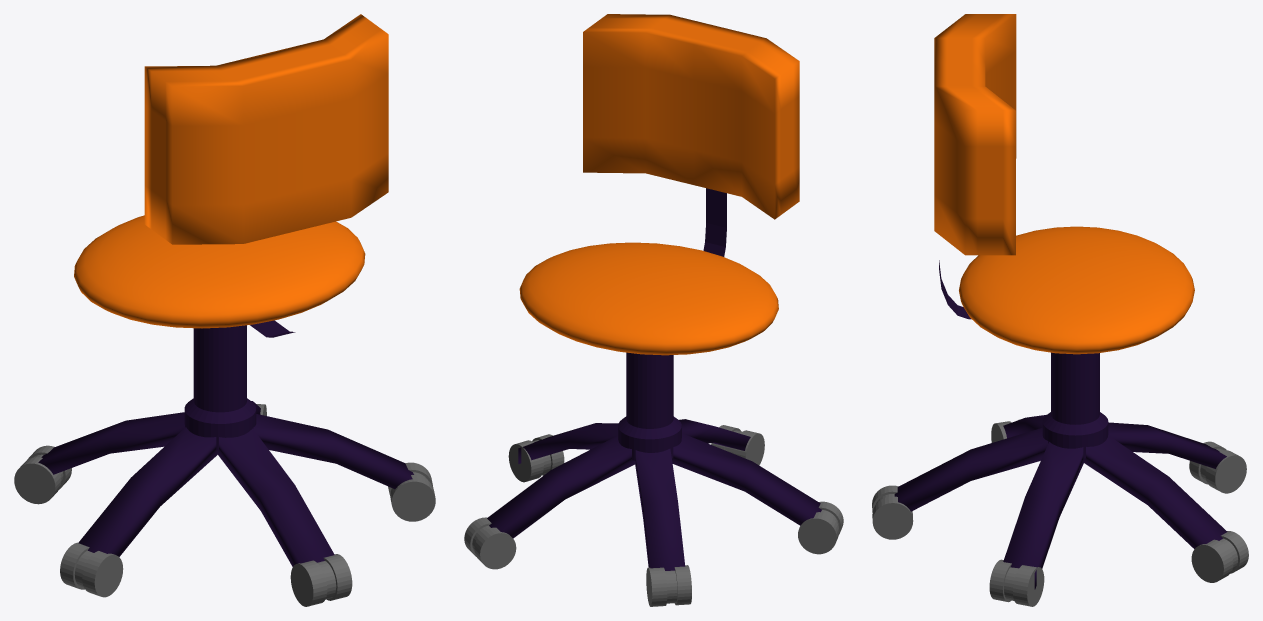
The model's file is 3dmodel6489c830728a1silla.glb.
The picture shows the model from 3 angles, left to right: view 1: azimuth 30°, elevation 25°; view 2: azimuth 150°, elevation 25°; view 3: azimuth 270°, elevation 25°; orthographic projection. The views are drawn at different scales.
Visible parts, largest first — view 1: Cube, Sphere, Plane.001, Cylinder, Cylinder.002, Cylinder.005, Cylinder.003, Cylinder.001; view 2: Cube, Sphere, Plane.001, Cylinder, Cylinder.004, Cylinder.001, Cylinder.002, Cylinder.003, Plane, Cylinder.005; view 3: Sphere, Cube, Plane.001, Cylinder, Cylinder.004, Cylinder.003, Cylinder.005, Cylinder.001.
Boxes of the visible parts, bbox=[...] form: Cube: bbox=[144, 14, 388, 244]; Sphere: bbox=[74, 215, 365, 328]; Plane.001: bbox=[38, 401, 413, 566]; Cylinder: bbox=[184, 325, 256, 449]; Cylinder.002: bbox=[60, 542, 123, 597]; Cylinder.005: bbox=[290, 554, 352, 606]; Cylinder.003: bbox=[388, 462, 435, 521]; Cylinder.001: bbox=[14, 445, 71, 504]; Cube: bbox=[583, 14, 799, 219]; Sphere: bbox=[519, 242, 778, 355]; Plane.001: bbox=[487, 419, 821, 570]; Cylinder: bbox=[618, 352, 681, 460]; Cylinder.004: bbox=[464, 517, 516, 569]; Cylinder.001: bbox=[646, 565, 691, 606]; Cylinder.002: bbox=[798, 501, 843, 554]; Cylinder.003: bbox=[508, 434, 564, 482]; Plane: bbox=[703, 188, 726, 256]; Cylinder.005: bbox=[711, 425, 764, 465]; Sphere: bbox=[959, 226, 1194, 354]; Cube: bbox=[934, 14, 1016, 255]; Plane.001: bbox=[894, 414, 1227, 589]; Cylinder: bbox=[1042, 352, 1108, 458]; Cylinder.004: bbox=[1191, 531, 1248, 582]; Cylinder.003: bbox=[989, 559, 1044, 606]; Cylinder.005: bbox=[872, 485, 913, 539]; Cylinder.001: bbox=[1189, 441, 1246, 493].
Bounding box in the file's own units: 8.27 × 10.92 × 7.97.
